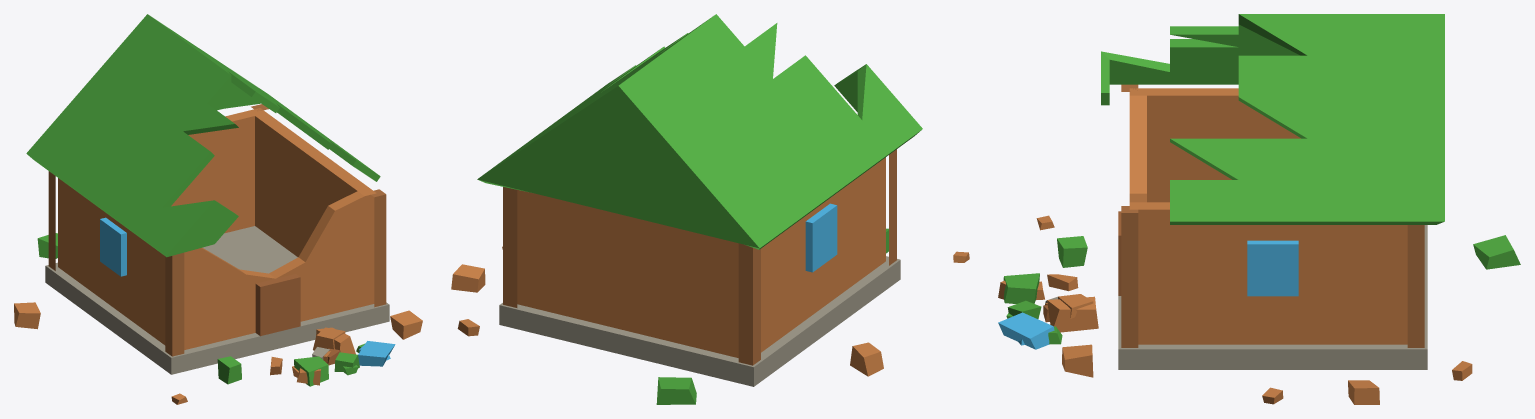
The model's file is house_t1_v2_dmg1.glb.
3 views of the same model, side by side, from view 1: azimuth 30°, elevation 25°; view 2: azimuth 150°, elevation 25°; view 3: azimuth 270°, elevation 25° (orthographic). The views are drawn at different scales.
Parts seen in each view (by area): view 1: house_t1_v2_dmg1; view 2: house_t1_v2_dmg1; view 3: house_t1_v2_dmg1.
Part boxes in pixels (x1,y1,x2,y2): house_t1_v2_dmg1: (14,14,422,404); house_t1_v2_dmg1: (451,14,969,404); house_t1_v2_dmg1: (998,14,1520,404).
Size of the model in its own units: 0.8676 by 0.56 by 0.9128.
Materials: 1 (1 with a texture image).
